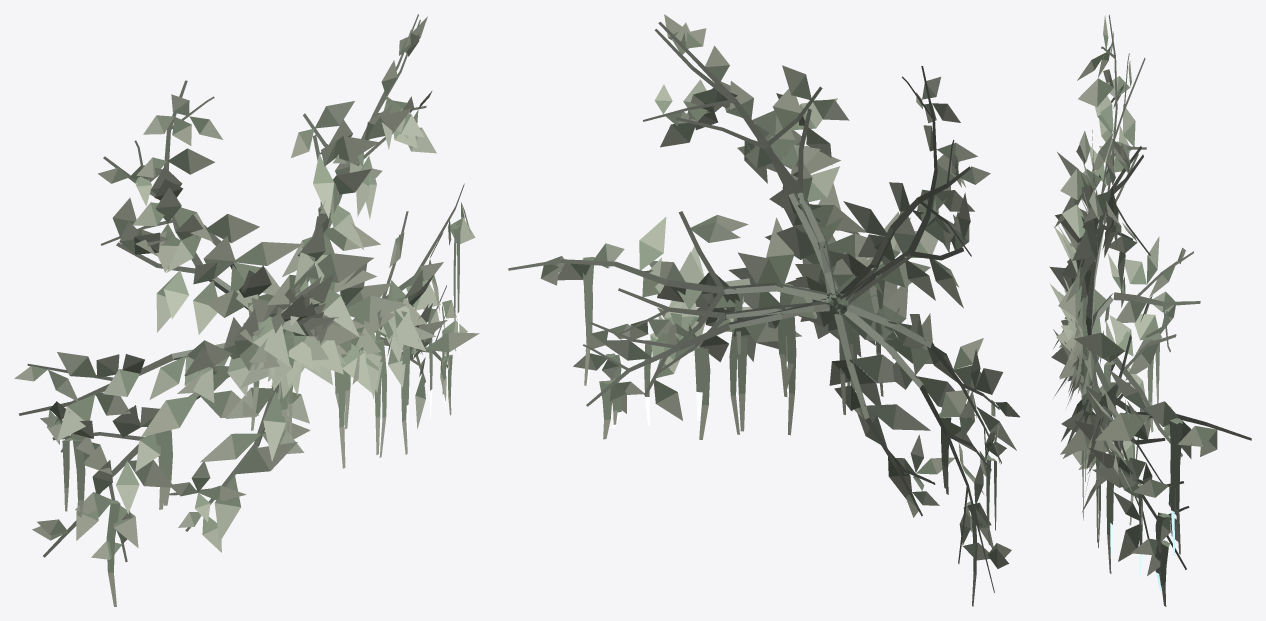
The model's file is plant_t1_s3_c.fbx.
3 views of the same model, side by side, from view 1: azimuth 30°, elevation 25°; view 2: azimuth 150°, elevation 25°; view 3: azimuth 270°, elevation 25° (orthographic). The views are drawn at different scales.
Visible parts, largest first — view 1: plant_t1_s3_c; view 2: plant_t1_s3_c; view 3: plant_t1_s3_c.
Boxes of the visible parts, x1=… form: plant_t1_s3_c: x1=14, y1=14, x2=479, y2=606; plant_t1_s3_c: x1=508, y1=14, x2=1019, y2=606; plant_t1_s3_c: x1=1049, y1=14, x2=1251, y2=606.
Size of the model in its own units: 39.76 by 40.97 by 13.88.
